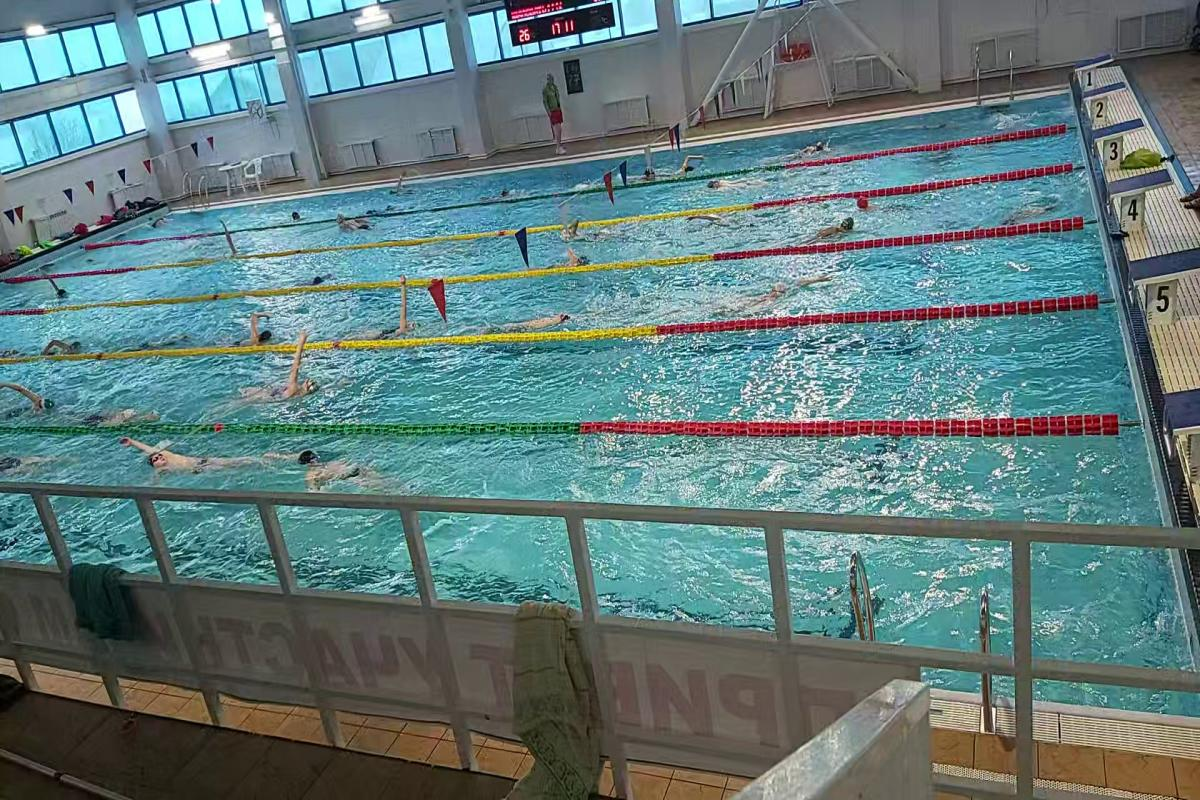swimmer: (291, 439, 400, 496), (125, 440, 250, 482), (248, 351, 330, 402), (490, 301, 574, 333), (360, 297, 428, 336), (5, 378, 59, 418), (78, 402, 167, 424), (759, 276, 833, 301), (703, 170, 780, 193), (235, 315, 283, 344), (683, 213, 740, 234), (40, 335, 94, 356), (812, 216, 862, 238), (544, 247, 594, 266), (553, 224, 596, 240)
